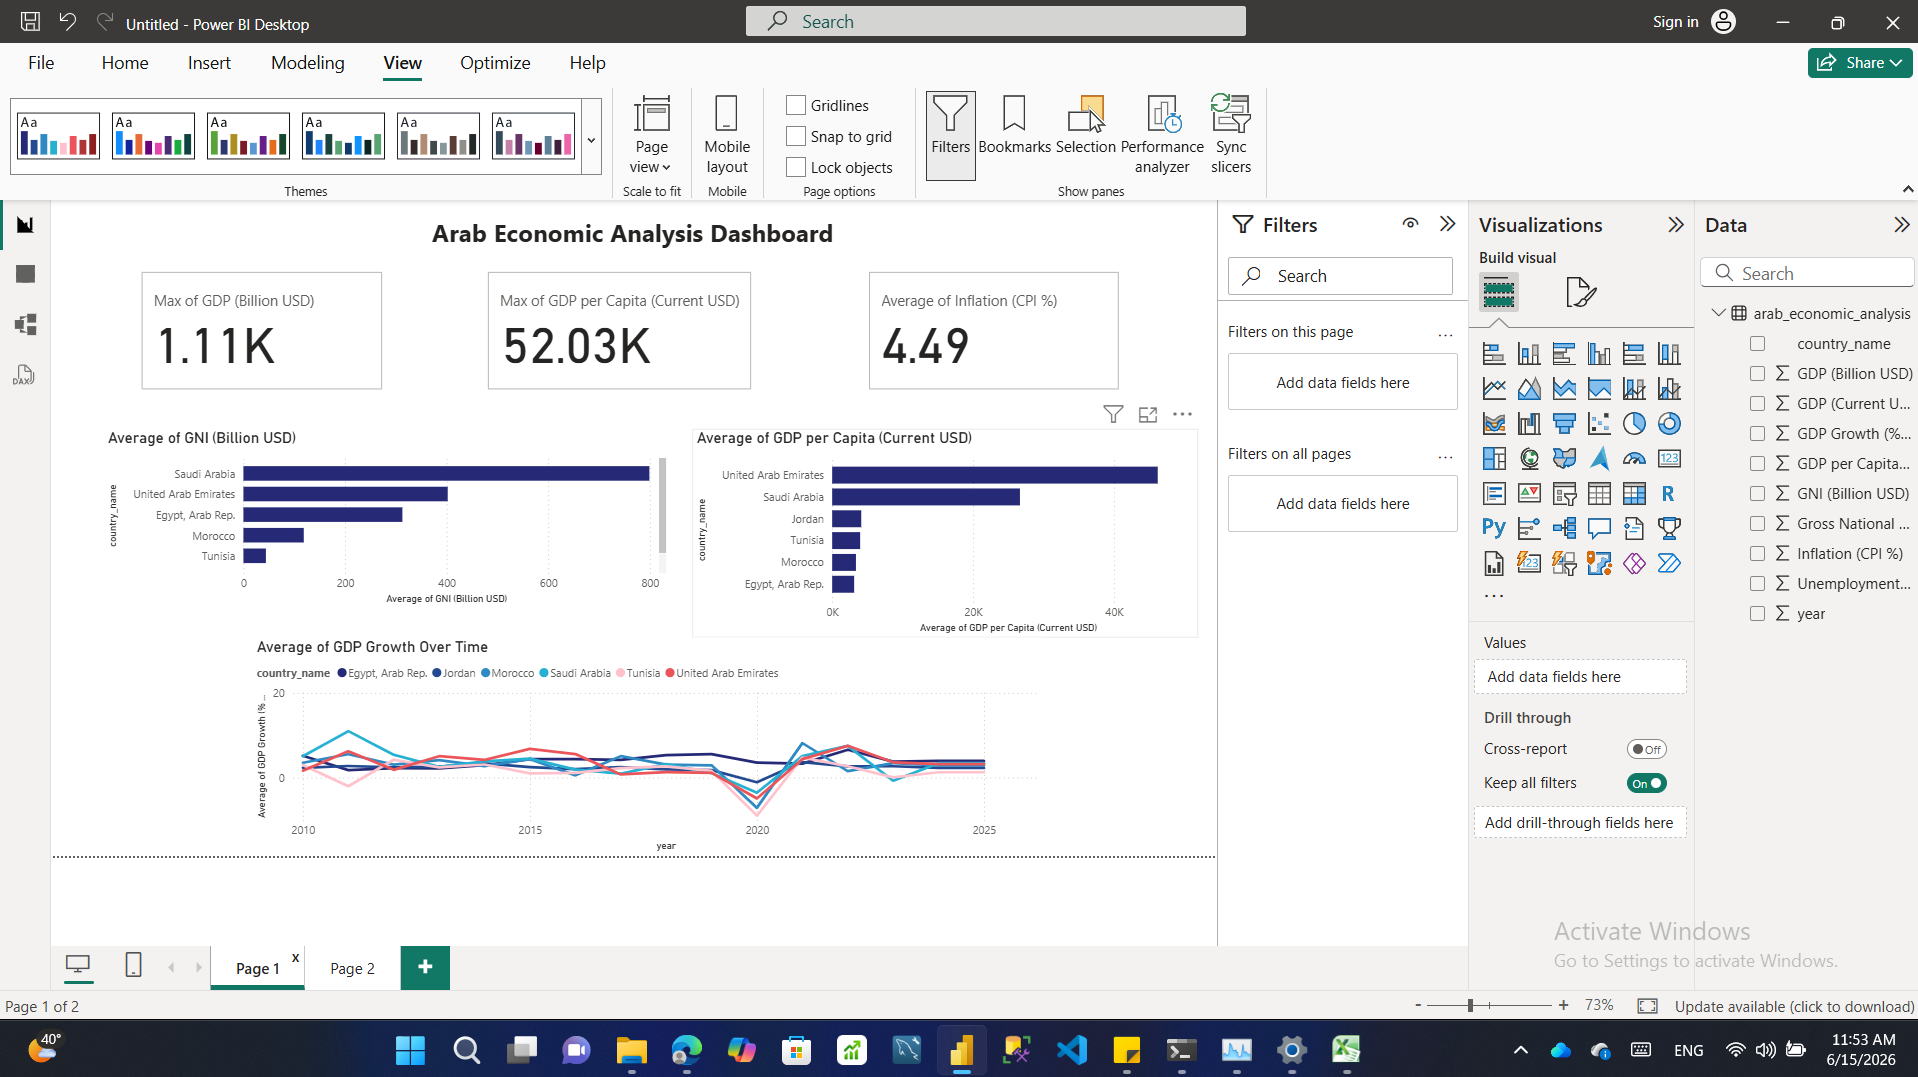

What the dashboard file says about the page in this screenshot:
{"tool":"powerbi","page":{"name":"Page 1","canvas":[1280,720],"ordinal":0},"visuals":[{"type":"cardVisual","fields":{"Data":["Max(arab_economic_analysis.GDP (Billion USD))"]},"box":[94.7,74.1,274.4,140],"z":0},{"type":"cardVisual","fields":{"Data":["Max(arab_economic_analysis.GDP per Capita (Current USD))"]},"box":[474.8,74.1,299.1,140],"z":1},{"type":"cardVisual","fields":{"Data":["Avg(arab_economic_analysis.Inflation (CPI %))"]},"box":[893.3,74.1,284,140],"z":2},{"type":"clusteredBarChart","title":"Average of GNI (Billion USD) ","fields":{"Category":["arab_economic_analysis.country_name"],"Y":["Avg(arab_economic_analysis.GNI (Billion USD))"]},"box":[57.6,251.1,623,197.6],"z":3},{"type":"clusteredBarChart","title":"Average of GDP per Capita (Current USD) ","fields":{"Category":["arab_economic_analysis.country_name"],"Y":["Avg(arab_economic_analysis.GDP per Capita (Current USD))"]},"box":[703.9,251.1,555.7,229.2],"z":4},{"type":"lineChart","title":"Average of GDP Growth  Over Time","fields":{"Category":["arab_economic_analysis.year"],"Y":["Avg(arab_economic_analysis.GDP Growth (% Annual))"],"Series":["arab_economic_analysis.country_name"]},"box":[220.9,480.3,871.4,240.1],"z":5},{"type":"textbox","box":[34.3,12.3,1208.9,50.8],"z":6}]}

Visuals, with their boxes on the page's 1280x720 design canvas (x1, y1, x2, y2). These are canvas units, not pixel positions in the 1918x1077 screenshot, which may show the page scaled, cropped or inside an application window:
cardVisual - Max(arab_economic_analysis.GDP (Billion USD)): bbox=[95, 74, 369, 214]
cardVisual - Max(arab_economic_analysis.GDP per Capita (Current USD)): bbox=[475, 74, 774, 214]
cardVisual - Avg(arab_economic_analysis.Inflation (CPI %)): bbox=[893, 74, 1177, 214]
"Average of GNI (Billion USD) " clusteredBarChart: bbox=[58, 251, 681, 449]
"Average of GDP per Capita (Current USD) " clusteredBarChart: bbox=[704, 251, 1260, 480]
"Average of GDP Growth  Over Time" lineChart: bbox=[221, 480, 1092, 720]
textbox: bbox=[34, 12, 1243, 63]
